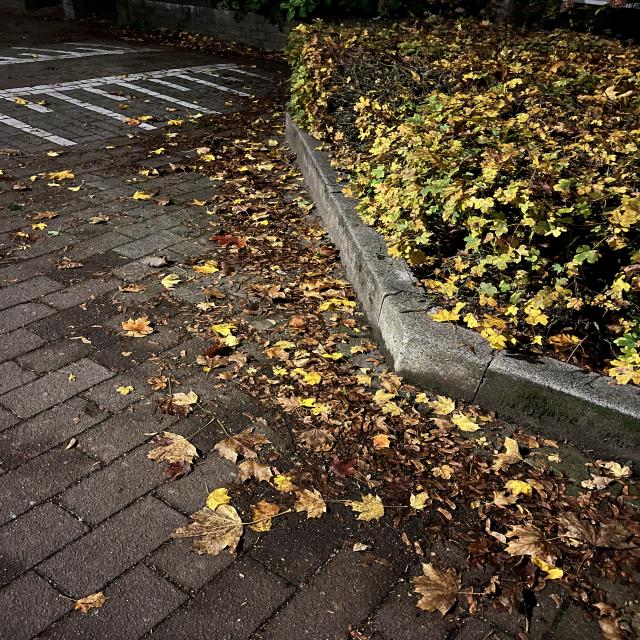leaves: (273, 342, 624, 571), (204, 136, 373, 437), (187, 489, 247, 558), (152, 428, 195, 490)
pavement: (0, 274, 127, 563), (1, 30, 262, 155), (115, 563, 379, 633), (135, 216, 199, 237)
plants: (313, 24, 640, 347)
